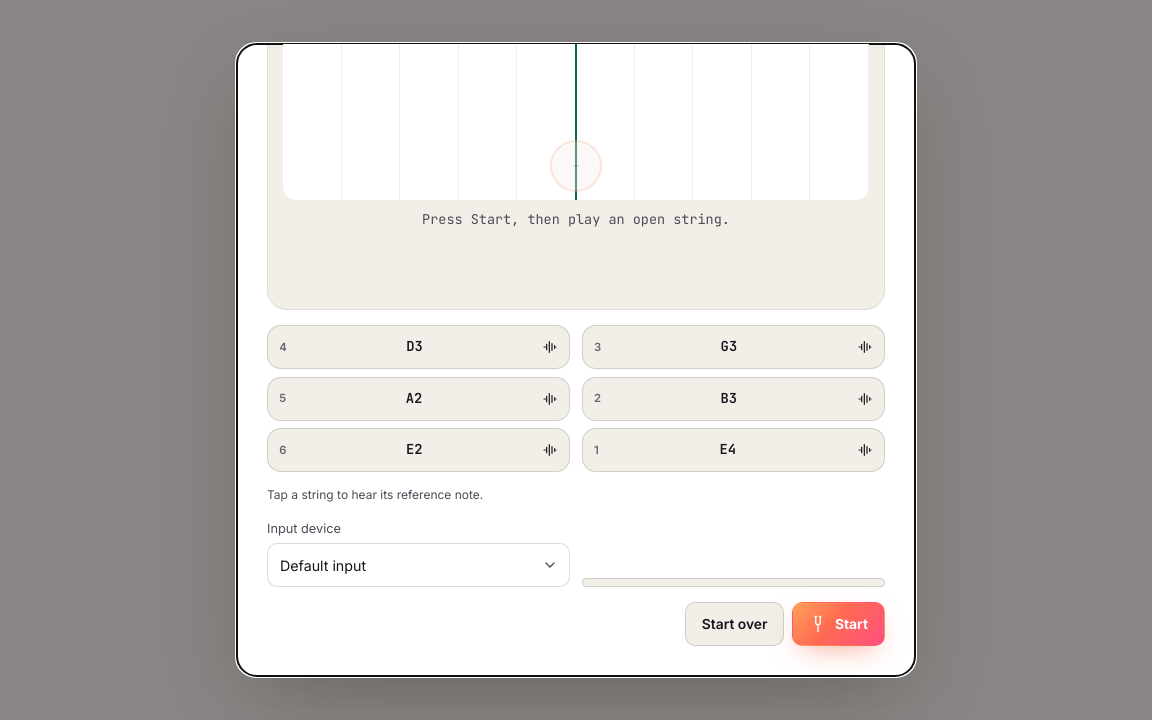
Test: TunerSheet › ignores the mic while the reference tone plays, and listens again when it stops
The image size is (1152, 720).
(page scrolled)
Click the button with test id "tuner-start": (838, 624) [792,602,885,646]
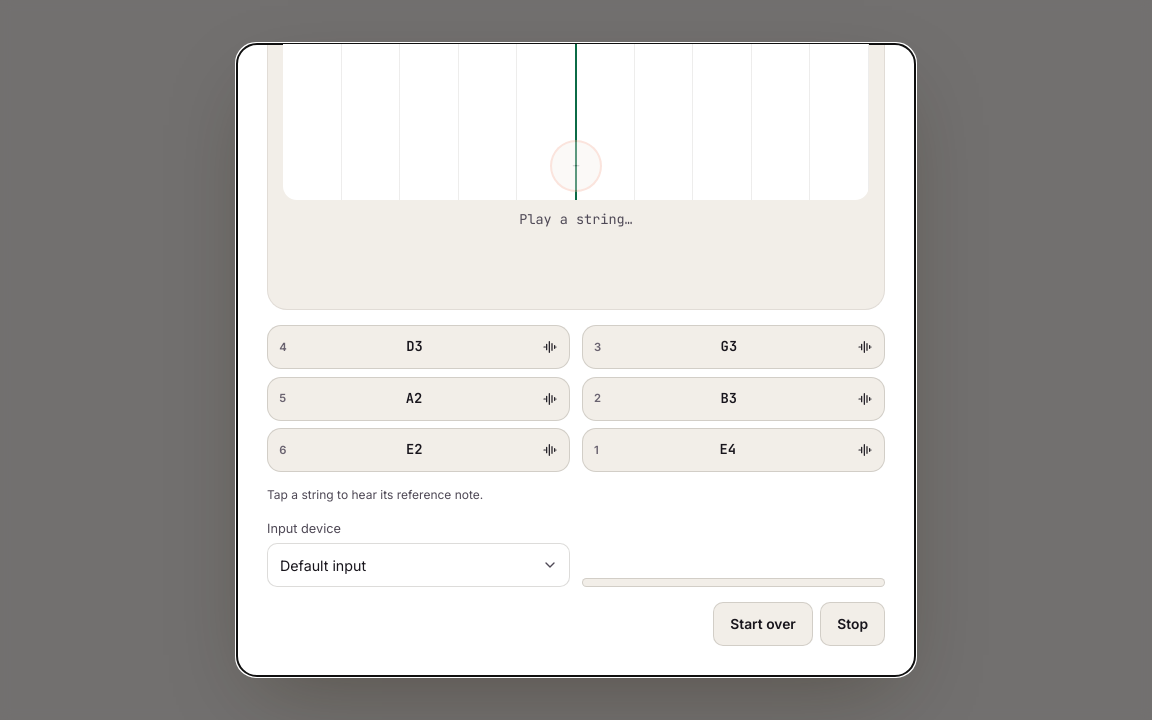
Click the button with test id "tuner-string-3": (419, 347) [267,325,570,369]
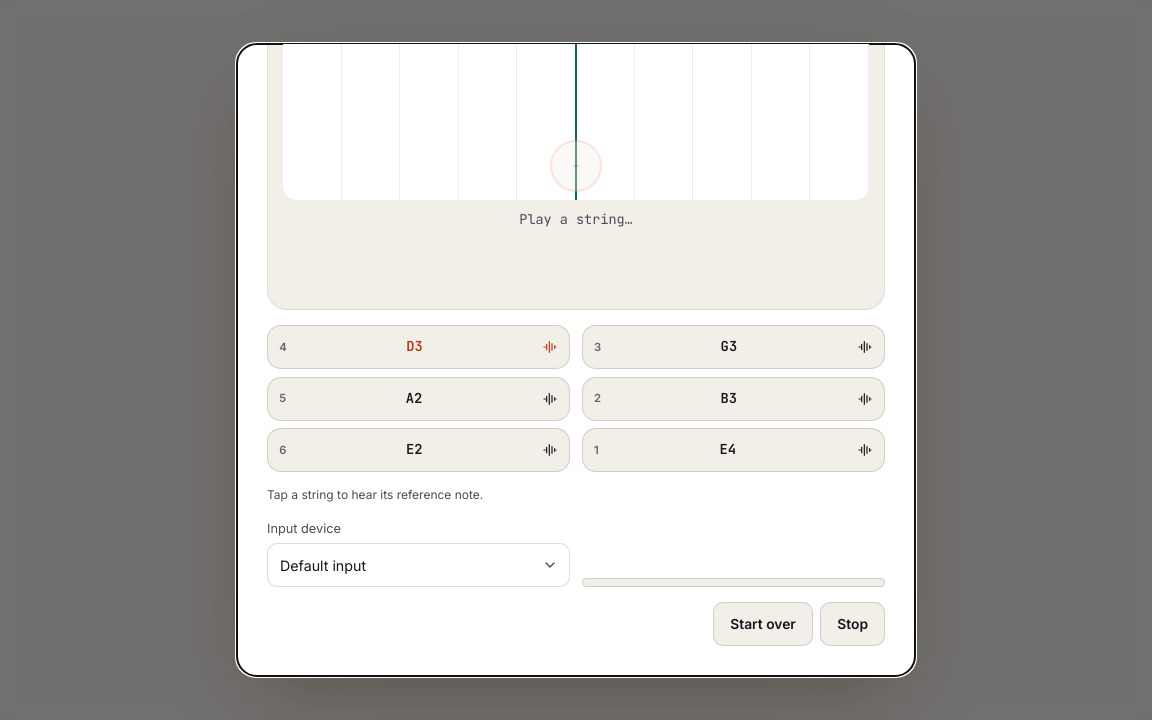
Expected: the text with test id "tuner-note" reads "–", [571,152,581,177]
Click the button with test id "tuner-string-3": (419, 347) [267,325,570,369]
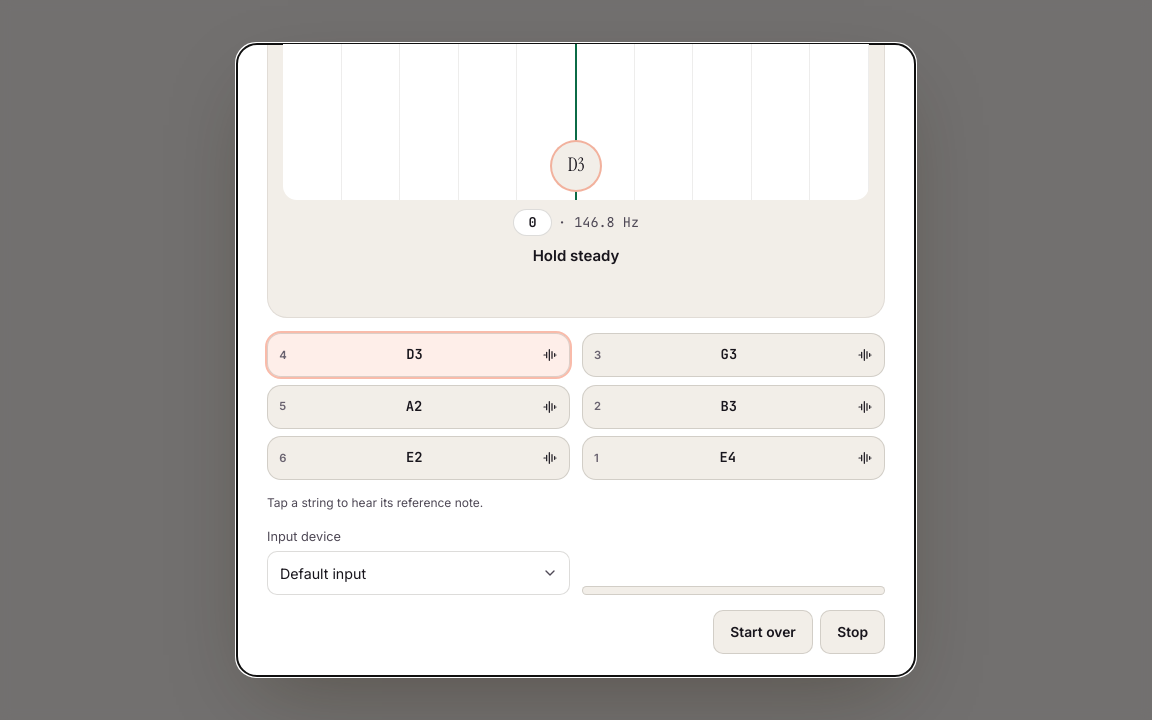
Now the text with test id "tuner-note" reads "D3", box [568,152,584,177]
